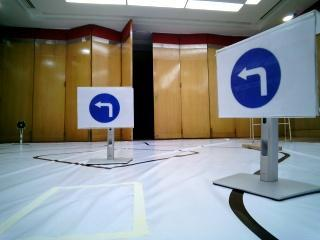left: (223, 42, 308, 114), (73, 87, 136, 129)
